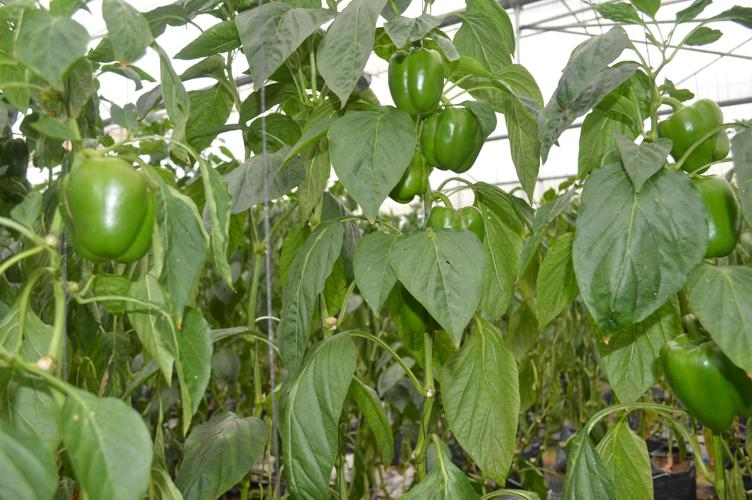BellPepper: (60, 157, 154, 267), (662, 332, 745, 435), (656, 99, 725, 170), (414, 105, 480, 174), (688, 179, 745, 255), (383, 46, 438, 116), (424, 204, 487, 240), (382, 157, 426, 200)
